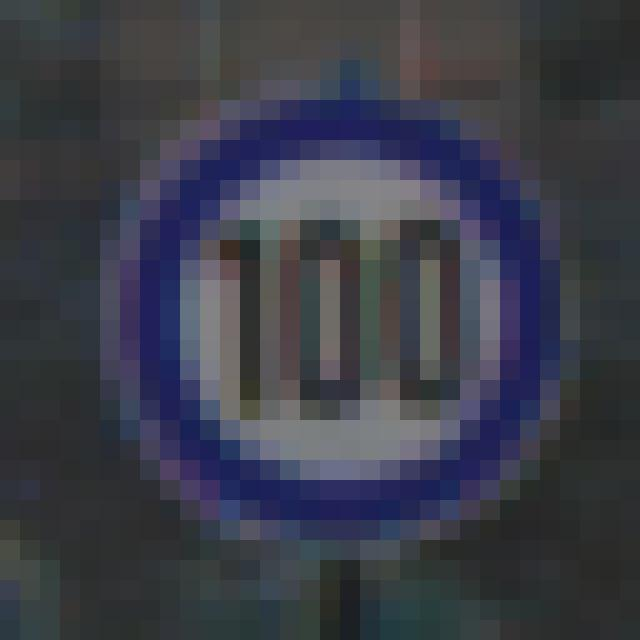SPEED LIMIT 100: (86, 73, 574, 560)
